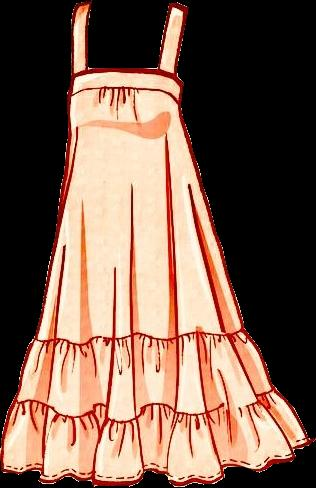Bodice: (61, 0, 202, 186)
Hemline: (0, 436, 314, 487)
Neckline: (83, 2, 173, 75)
Skirt: (0, 187, 315, 486)
